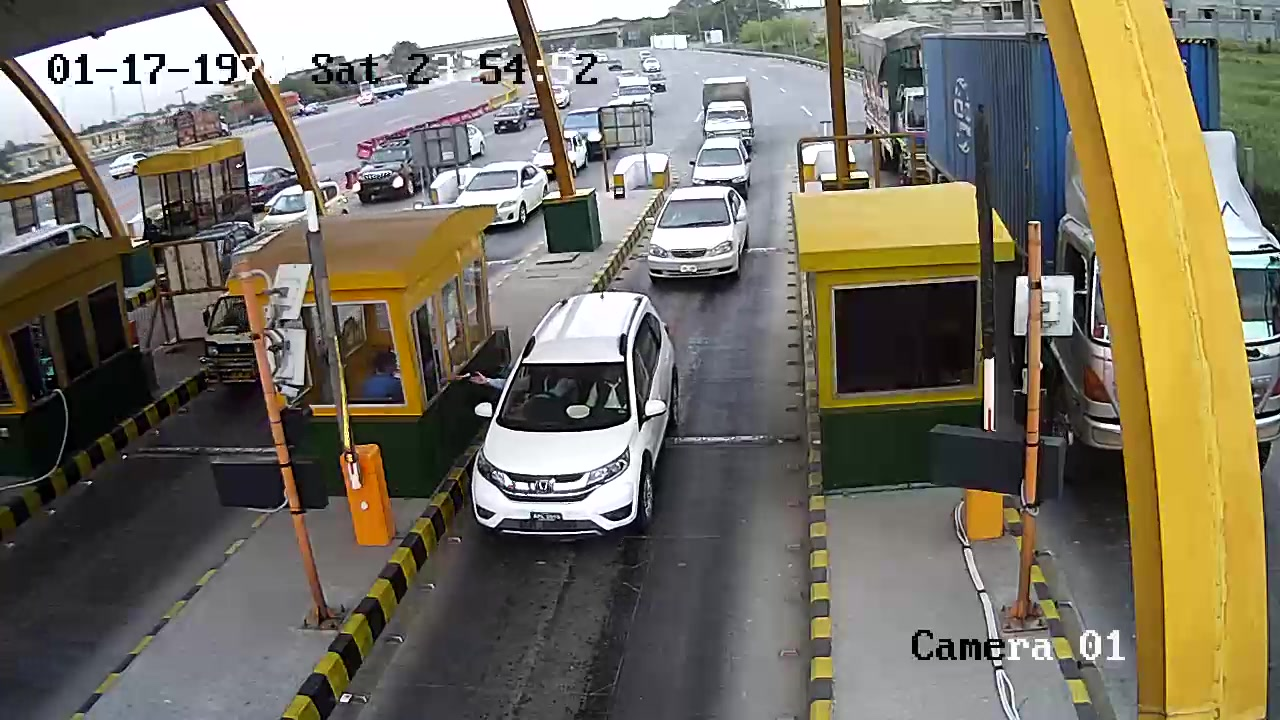F1: (469, 291, 679, 544)
